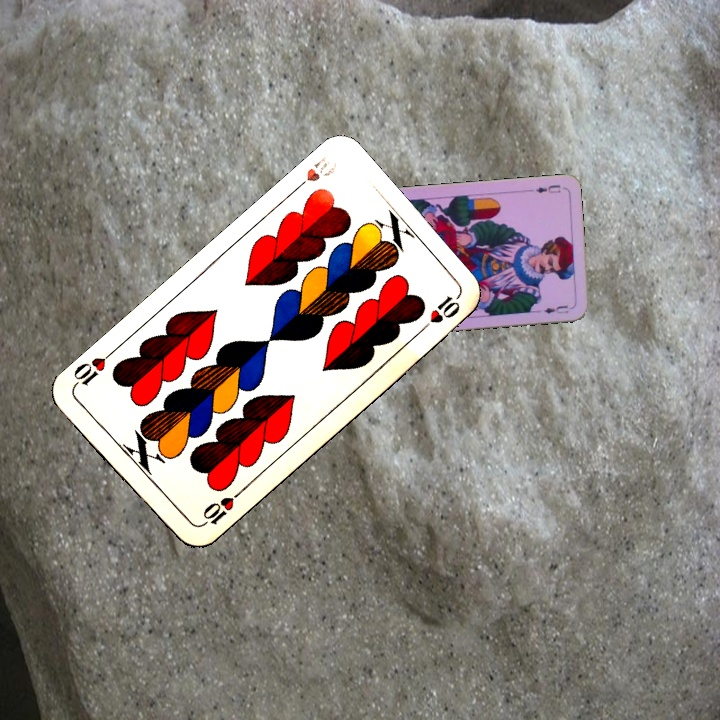EU: (532, 181, 563, 196)
H10: (288, 152, 340, 196), (196, 487, 245, 530)
